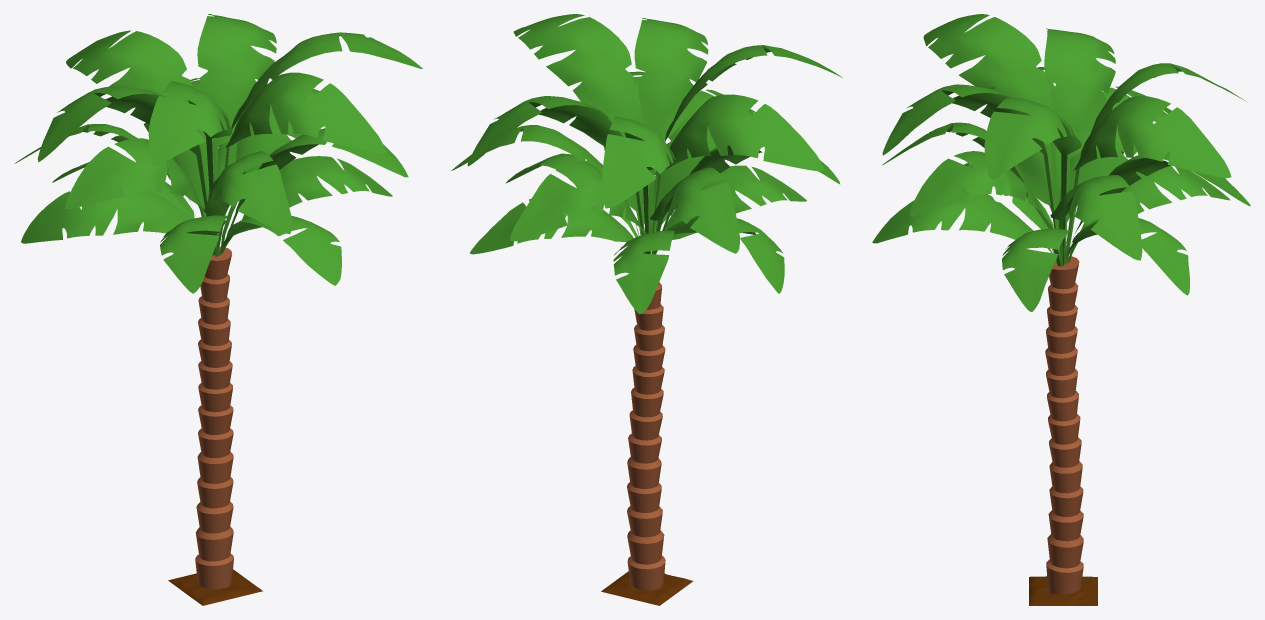
File: oil-palm-p5-leaf.glb
3 views of the same model, side by side, from view 1: azimuth 30°, elevation 25°; view 2: azimuth 150°, elevation 25°; view 3: azimuth 270°, elevation 25° (orthographic). The views are drawn at different scales.
Visible parts, largest first — view 1: 5_nft_summer; view 2: 5_nft_summer; view 3: 5_nft_summer.
Boxes of the visible parts, bbox=[...] form: 5_nft_summer: bbox=[14, 14, 422, 605]; 5_nft_summer: bbox=[451, 14, 842, 605]; 5_nft_summer: bbox=[872, 14, 1250, 605].
Bounding box in the file's own units: 8.12 × 11.96 × 7.71.
